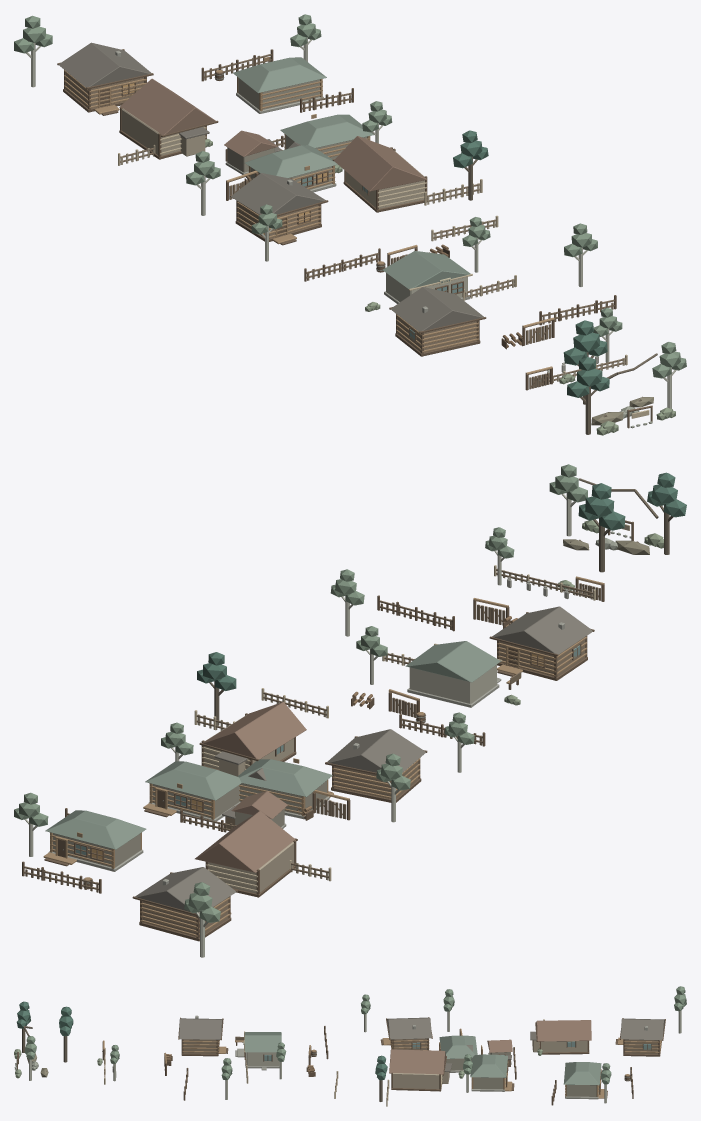
The model's file is urman_act1_village_landmark_kit.glb.
3 views of the same model, one above another, from view 1: azimuth 30°, elevation 25°; view 2: azimuth 150°, elevation 25°; view 3: azimuth 270°, elevation 25° (orthographic). The views are drawn at different scales.
Visible parts, largest first — view 1: CatalogHouseB_Roof, StreetHouseB_Roof, ArrivalHouseA_Roof, ReturnHouseA_Roof, CatalogHouseA_Roof, Fap_Roof, StreetHouseC_Roof, BabaiHouseC_Roof, CatalogHouseC_Roof, StreetHouseB_Body, StreetHouseC_Body, CatalogHouseB_Body (+4 smaller); view 2: StreetHouseB_Roof, CatalogHouseB_Roof, ReturnHouseA_Roof, CatalogHouseA_Roof, Fap_Roof, StreetHouseC_Roof, BabaiHouseC_Roof, ArrivalHouseA_Roof, CatalogHouseC_Roof, Fap_Body, StreetHouseB_Body, ArrivalHouseA_Body (+6 smaller); view 3: CatalogHouseB_Roof, StreetHouseB_Roof, ReturnHouseA_Roof, CatalogHouseA_Roof, ArrivalHouseA_Roof, StreetHouseC_Roof, BabaiHouseC_Roof, CatalogHouseC_Roof, Fap_Roof, CatalogHouseB_Body, StreetHouseB_Body, ReturnHouseA_Body (+6 smaller).
Boxes of the visible parts, x1,y1,x2,y2 form: CatalogHouseB_Roof: (334, 136, 427, 191); StreetHouseB_Roof: (119, 78, 215, 135); ArrivalHouseA_Roof: (58, 42, 151, 87); ReturnHouseA_Roof: (390, 287, 483, 331); CatalogHouseA_Roof: (231, 173, 325, 214); Fap_Roof: (382, 251, 470, 289); StreetHouseC_Roof: (233, 57, 326, 93); BabaiHouseC_Roof: (280, 114, 373, 147); CatalogHouseC_Roof: (245, 145, 337, 178); StreetHouseB_Body: (121, 108, 204, 155); StreetHouseC_Body: (238, 78, 319, 109); CatalogHouseB_Body: (346, 150, 424, 208); StreetHouseB_Roof: (195, 811, 296, 872); CatalogHouseB_Roof: (202, 702, 306, 759); ReturnHouseA_Roof: (492, 606, 592, 654); CatalogHouseA_Roof: (327, 729, 425, 772); Fap_Roof: (405, 641, 500, 682); StreetHouseC_Roof: (45, 810, 146, 849); BabaiHouseC_Roof: (145, 761, 241, 800); ArrivalHouseA_Roof: (135, 867, 235, 914); CatalogHouseC_Roof: (237, 759, 332, 796); Fap_Body: (409, 664, 496, 703); StreetHouseB_Body: (208, 842, 294, 893); ArrivalHouseA_Body: (143, 897, 228, 936); CatalogHouseB_Roof: (389, 1049, 446, 1074); StreetHouseB_Roof: (536, 1020, 591, 1041); ReturnHouseA_Roof: (179, 1018, 222, 1039); CatalogHouseA_Roof: (386, 1017, 431, 1039); ArrivalHouseA_Roof: (620, 1018, 664, 1040); StreetHouseC_Roof: (563, 1062, 601, 1085); BabaiHouseC_Roof: (470, 1054, 507, 1077); CatalogHouseC_Roof: (439, 1035, 477, 1058); Fap_Roof: (244, 1032, 281, 1052); CatalogHouseB_Body: (393, 1073, 439, 1089); StreetHouseB_Body: (541, 1041, 587, 1052); ReturnHouseA_Body: (183, 1039, 216, 1053).
Size of the model in its own units: 28.56 by 9.17 by 99.43.
